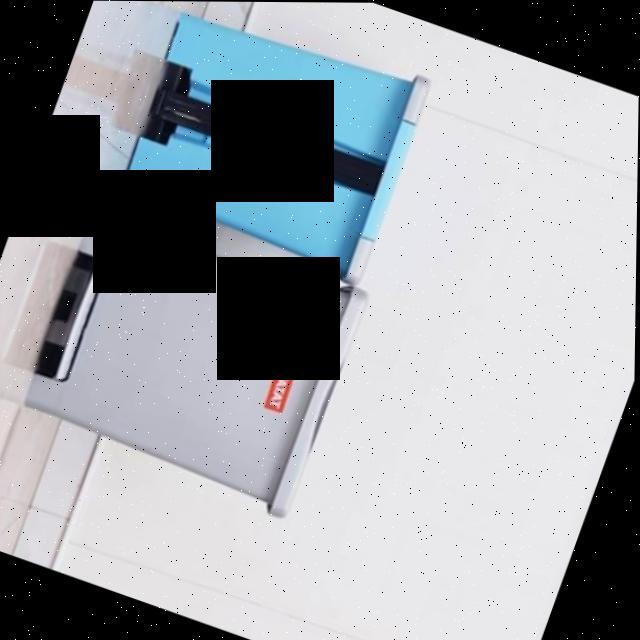bin: (0, 187, 406, 564), (102, 1, 458, 297)
